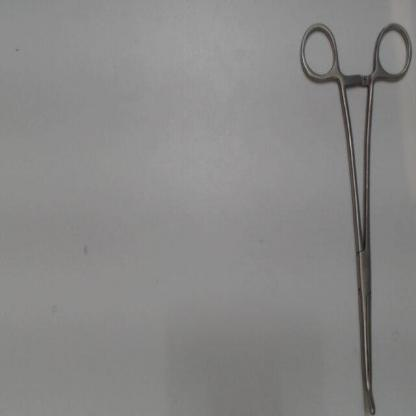Lahey Forceps: (296, 17, 414, 414)
